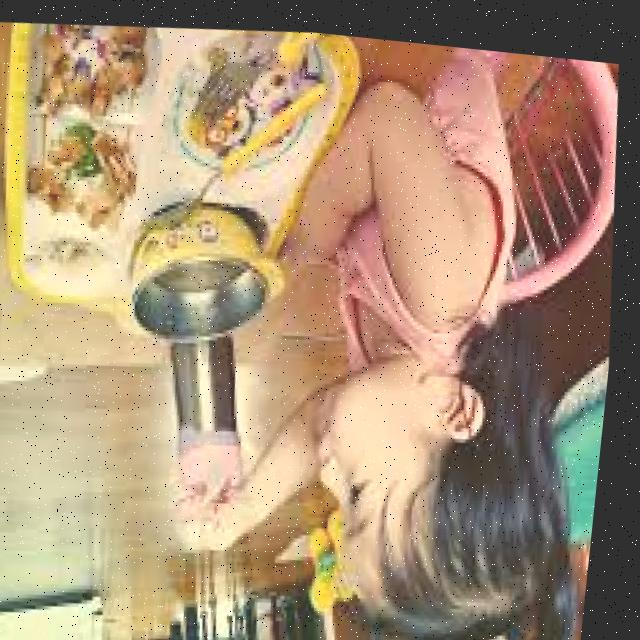eating-person: (142, 16, 640, 640)
